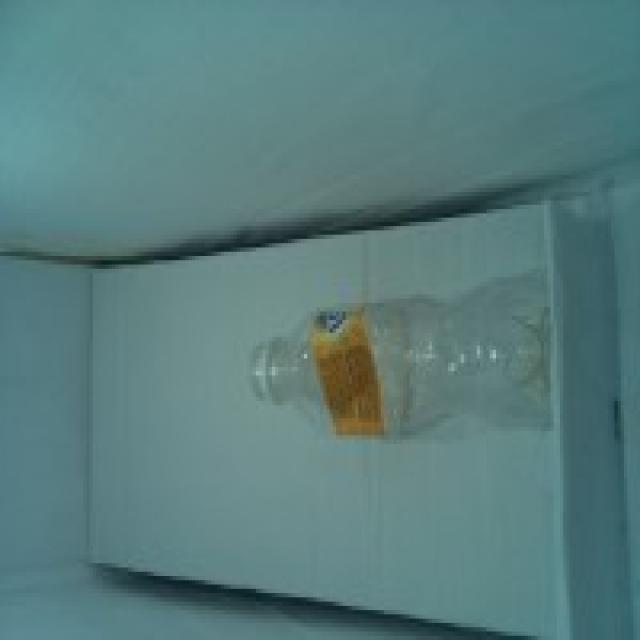plastic_bottle: (247, 300, 550, 441)
